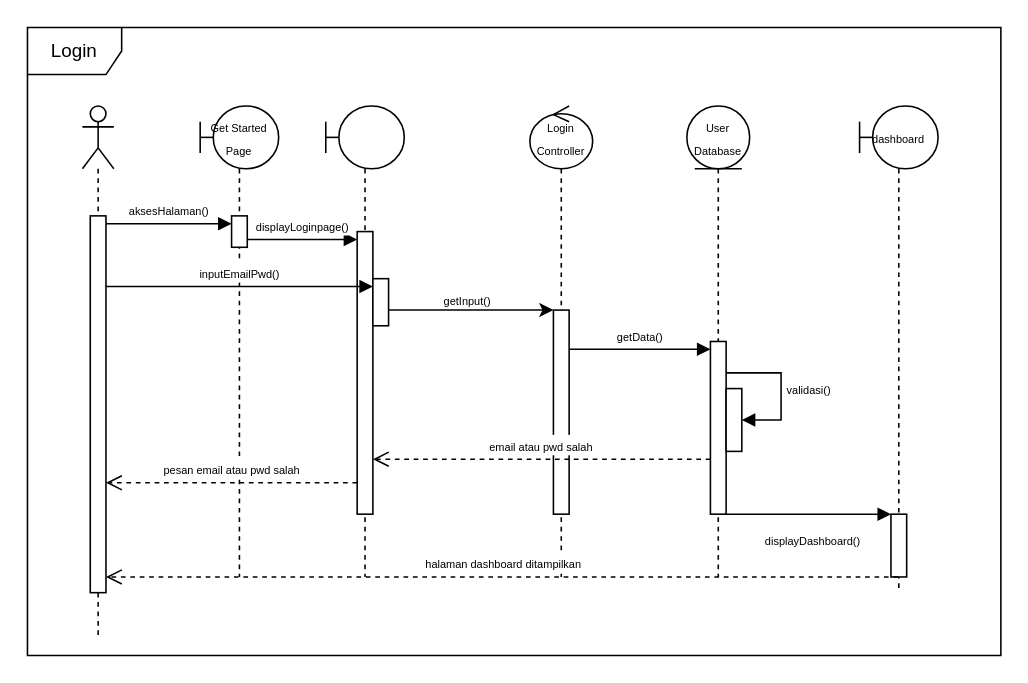
The diagram is 1028 pixels wide and 683 high, and some of its shapes have lost their labels. Here are the shapes that lost their labels. From the top down, the box of each, then its label:
(324, 104, 404, 577): Login page
(81, 104, 114, 640): Aktor
